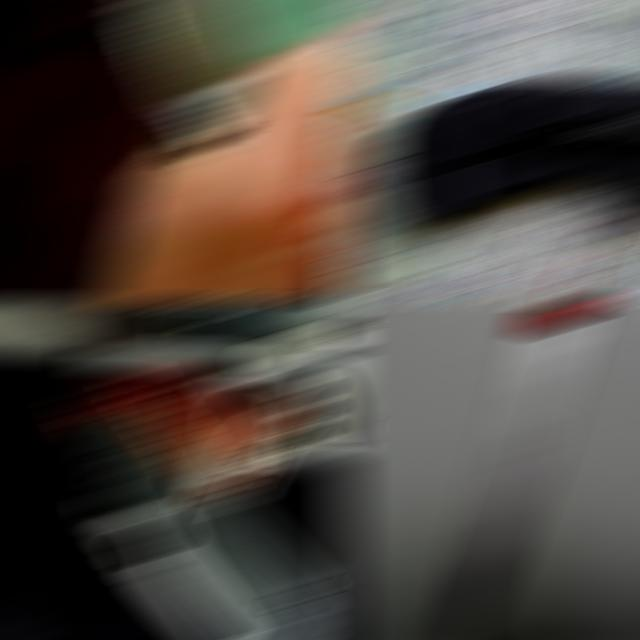Knife: (446, 303, 606, 637), (117, 3, 272, 151)
